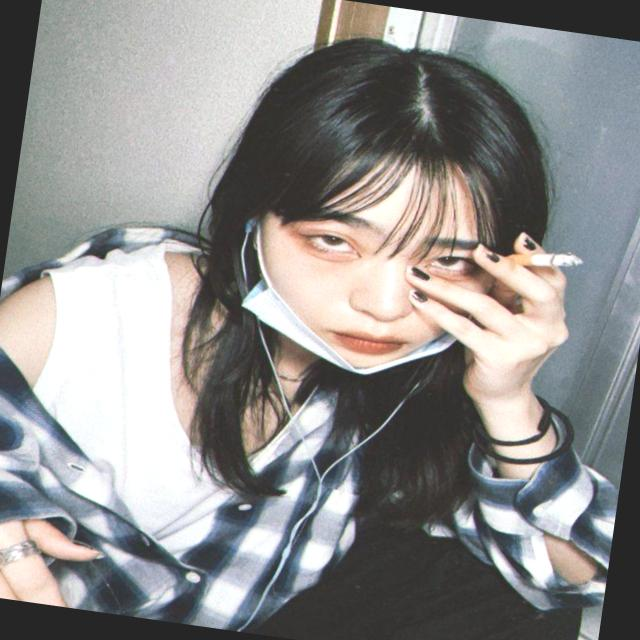smoke: (465, 227, 607, 295)
